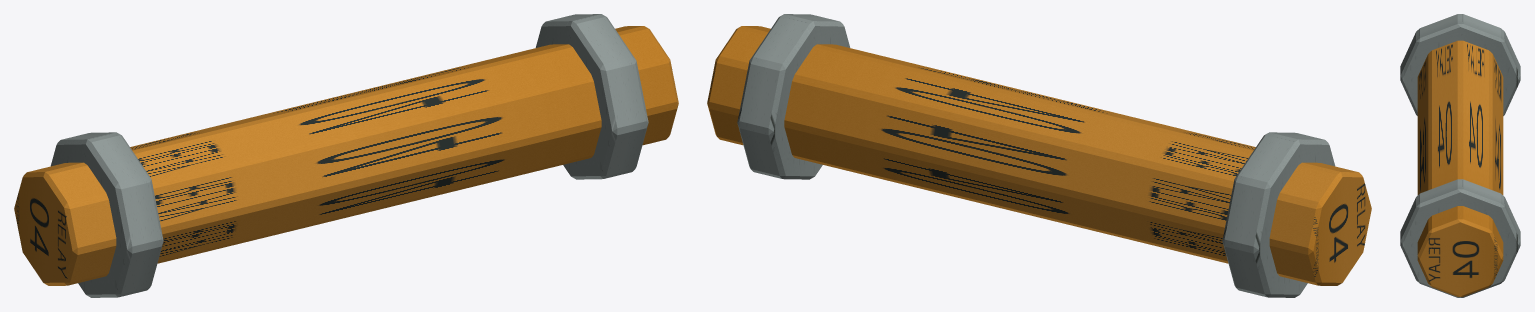
Rendered from pipe_straight_LOD2.obj.
3 views of the same model, side by side, from view 1: azimuth 30°, elevation 25°; view 2: azimuth 150°, elevation 25°; view 3: azimuth 270°, elevation 25° (orthographic). The views are drawn at different scales.
Parts seen in each view (by area): view 1: L02_pipe_straight_LOD2; view 2: L02_pipe_straight_LOD2; view 3: L02_pipe_straight_LOD2.
Boxes of the visible parts, x1,y1,x2,y2 form: L02_pipe_straight_LOD2: (14,14,678,297); L02_pipe_straight_LOD2: (707,14,1371,297); L02_pipe_straight_LOD2: (1400,14,1520,297).
Bounding box in the file's own units: 2 × 0.4908 × 0.4908.
1 material, 1 textured.
